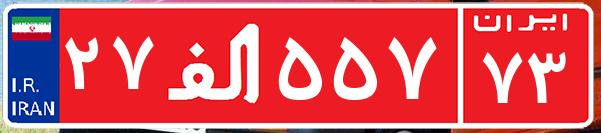2: (57, 26, 110, 107)
3: (525, 38, 570, 115)
5: (273, 28, 330, 110), (330, 28, 385, 110)
7: (385, 28, 445, 110), (475, 38, 525, 113), (110, 28, 158, 105)
الف: (158, 15, 273, 115)
